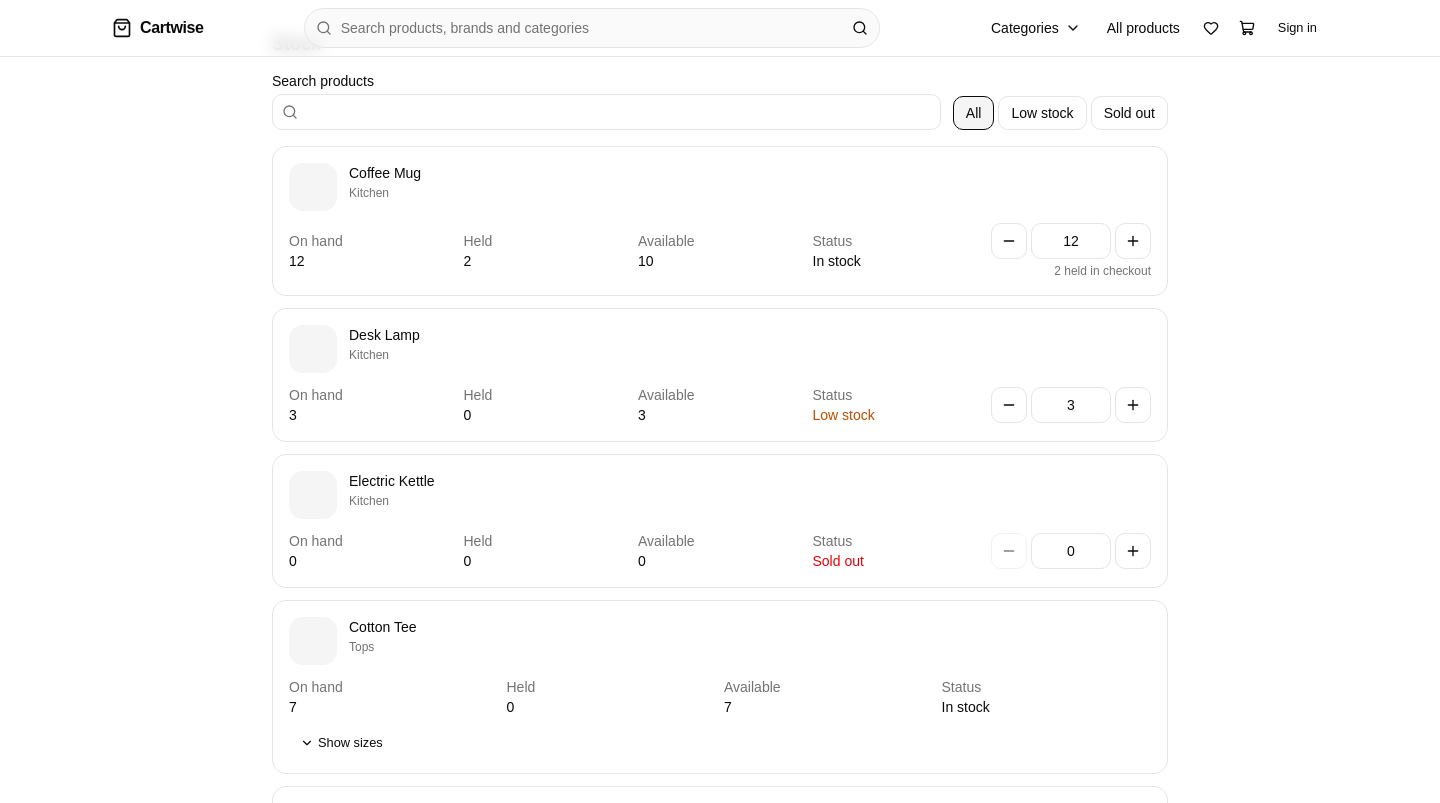
Test case: inventory tab › changes stock with the stepper and the exact value, logging each change
(page scrolled)
Click the button named "Increase stock for Desk Lamp" at coordinates (1133, 405), box [1115,387,1151,423]
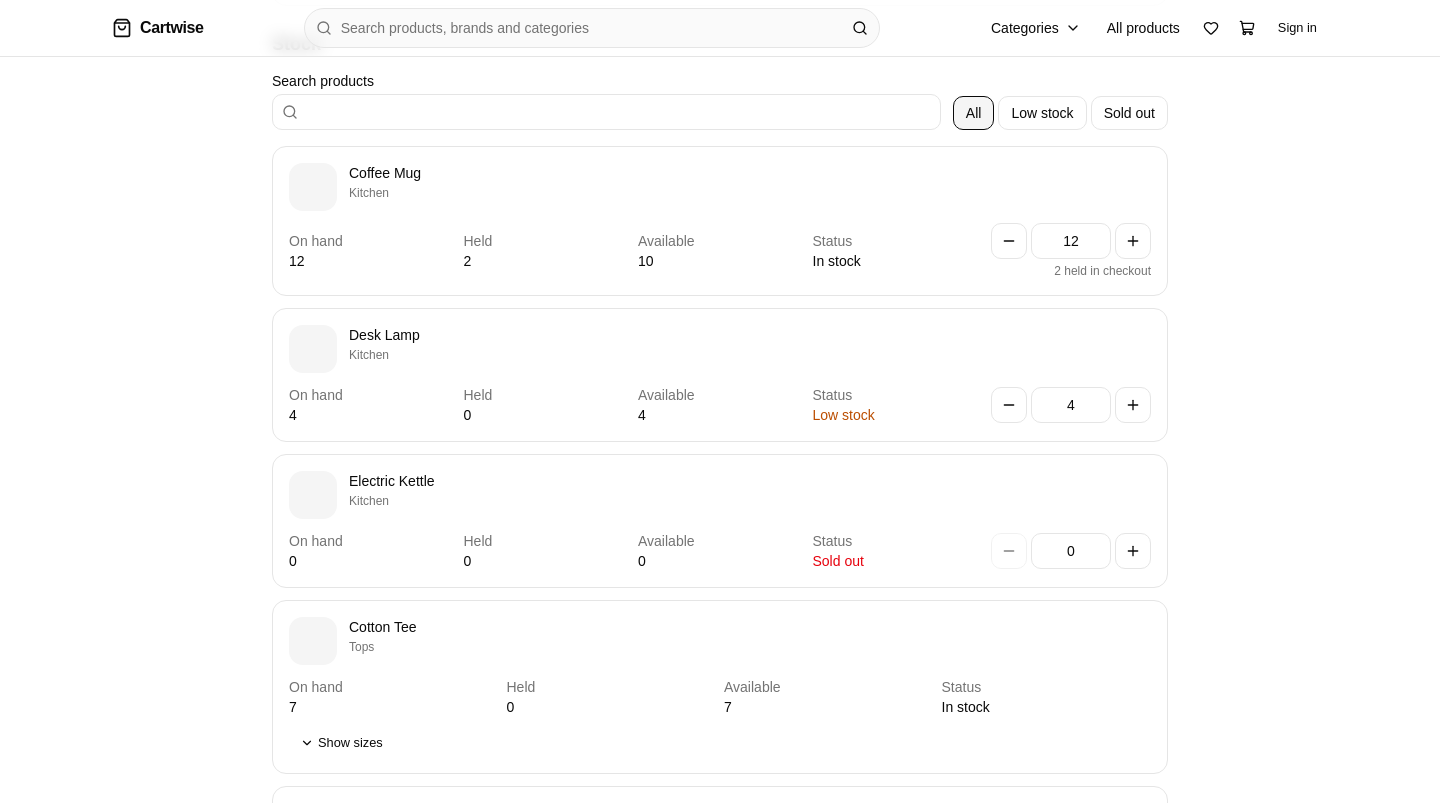
Expected: the 2nd field named "On hand for Desk Lamp" holds "4"
Replace the text in the 2nd field named "On hand for Desk Lamp" with "0" at coordinates (1071, 405), box [1031,387,1111,423]
Then press Enter
(page scrolled)
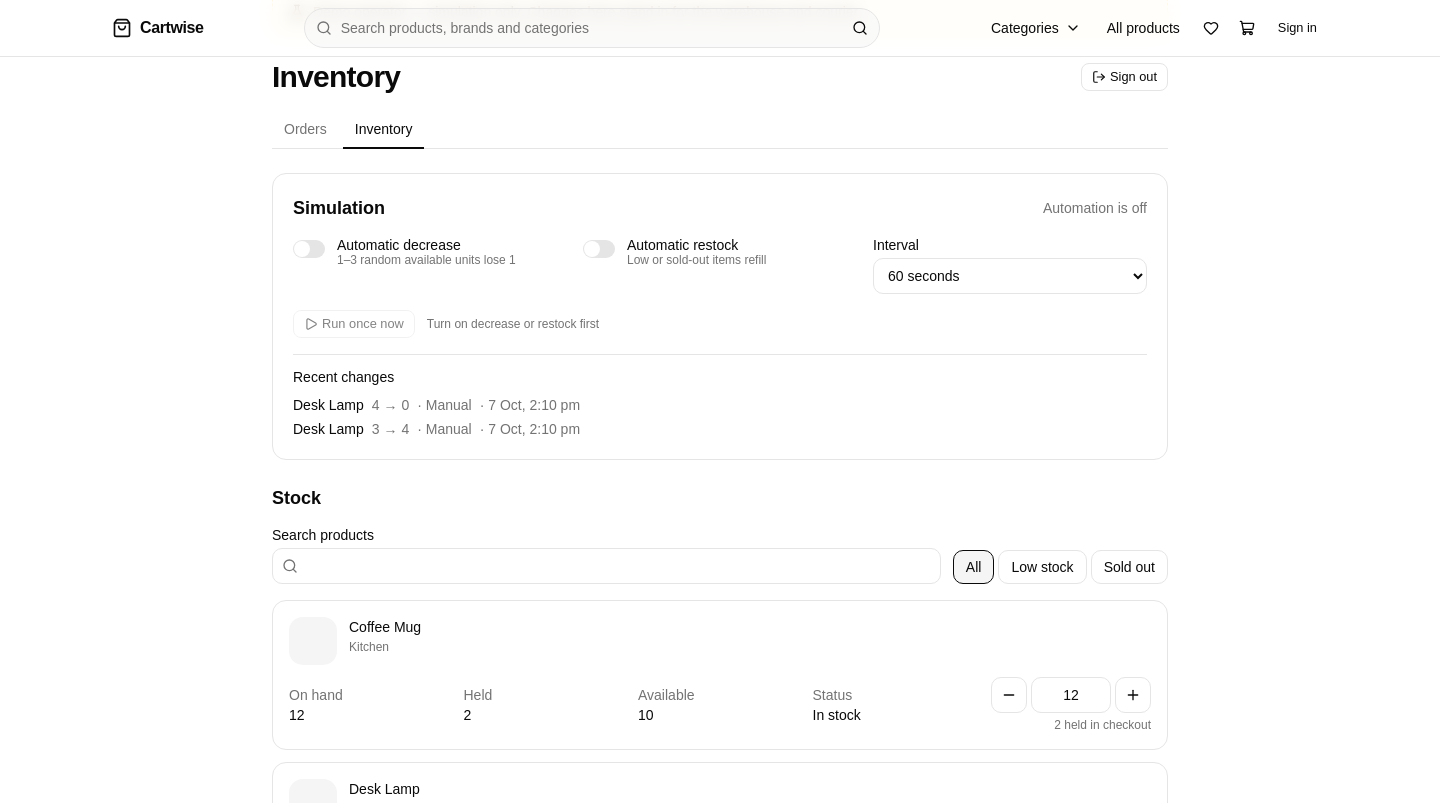
Expected: the list item "Desk Lamp 4 → 0 · Manual · 7 Oct, 2:10 pm" is shown, [293,397,580,413]
